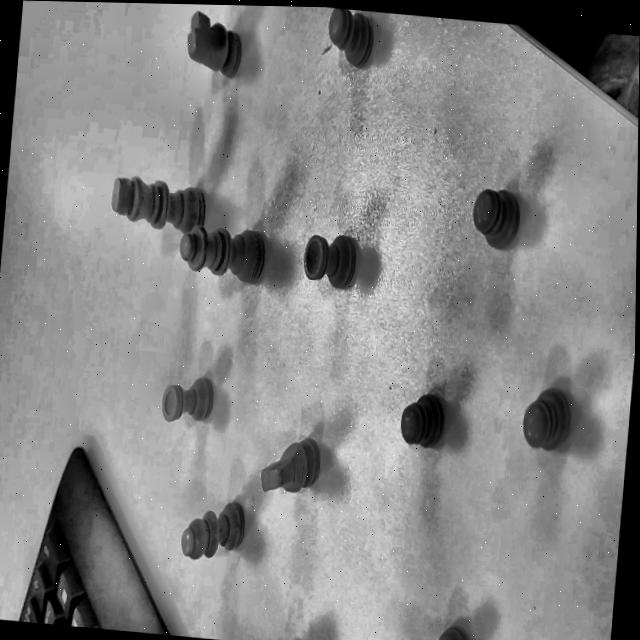white-bishop: (165, 494, 251, 569)
white-king: (103, 162, 212, 248)
white-knight: (178, 4, 251, 102), (247, 434, 335, 513)
white-pawn: (510, 371, 585, 473), (309, 7, 393, 81), (469, 172, 532, 270), (389, 371, 456, 460), (406, 619, 475, 640)
white-queen: (177, 216, 273, 294)
white-rook: (293, 216, 370, 305), (154, 374, 223, 443)
